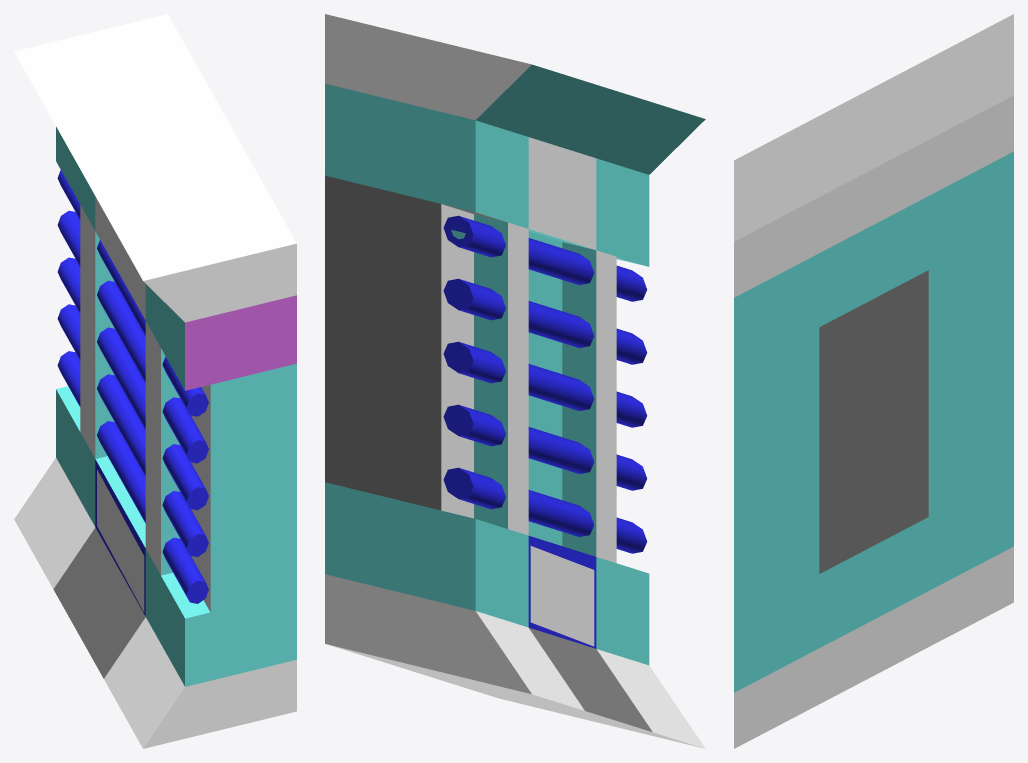
The model's file is WallBaseAngled.fbx.
The picture shows the model from 3 angles, left to right: view 1: azimuth 30°, elevation 25°; view 2: azimuth 150°, elevation 25°; view 3: azimuth 270°, elevation 25°; orthographic projection. The views are drawn at different scales.
Visible parts, largest first — view 1: BaseAngled; view 2: BaseAngled; view 3: BaseAngled.
Boxes of the visible parts, x1,y1,x2,y2 form: BaseAngled: (14,14,296,748); BaseAngled: (325,14,705,748); BaseAngled: (734,14,1013,748).
Size of the model in its own units: 54.17 by 203 by 78.74.
